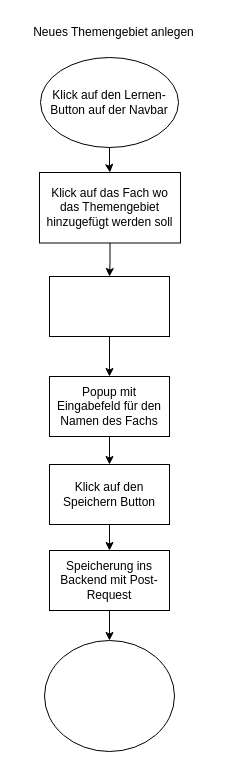
Image size: 227x769. Some labels were removed from this diagram. The centre of each missing label's shape, as x and y in pixels:
Automatische Weiterleitung auf die Übersichtsseite: point (109, 696)
Klick auf den Hinzufügen (+) Button: point (109, 306)
